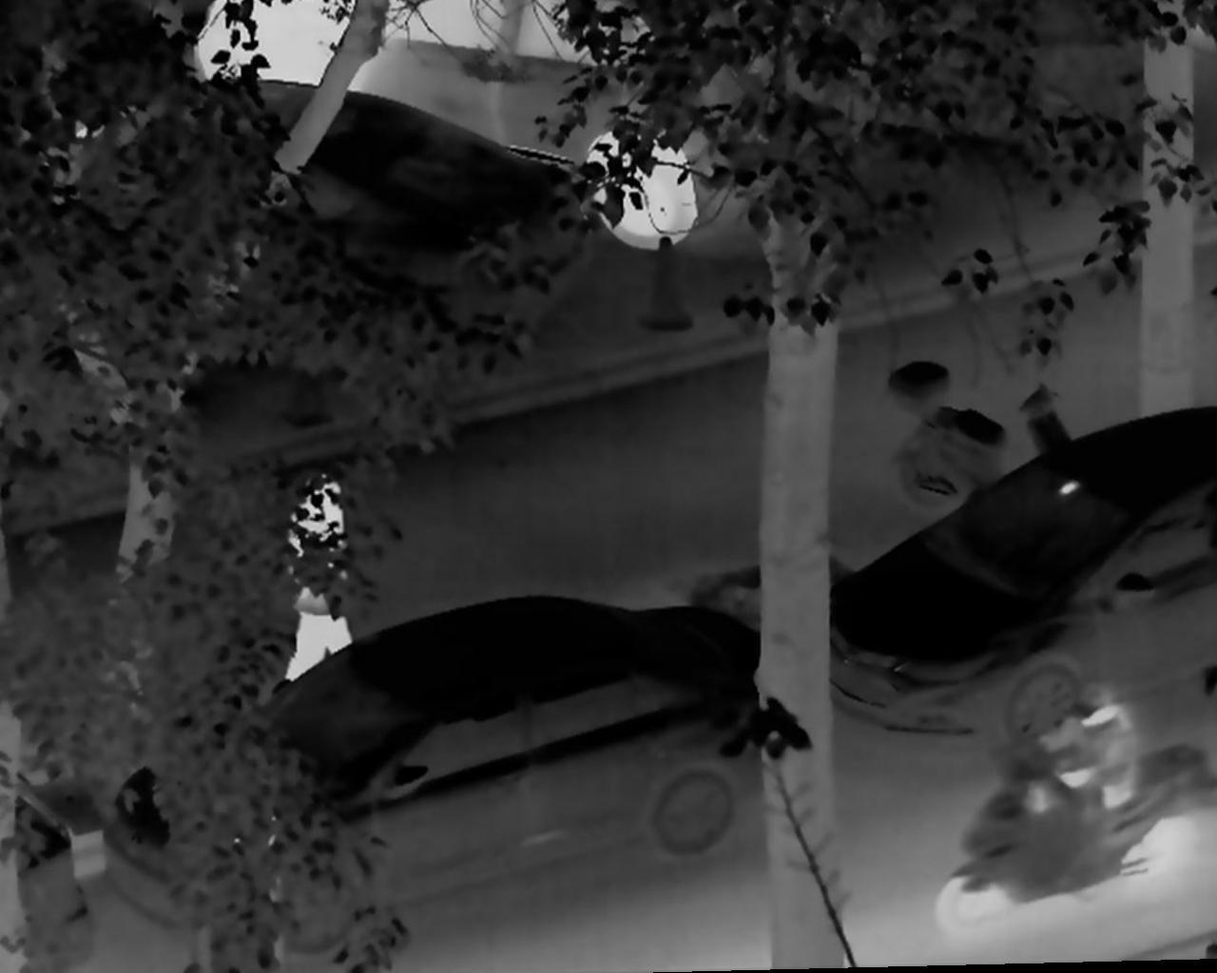person: (276, 466, 359, 683), (1024, 675, 1143, 826)
